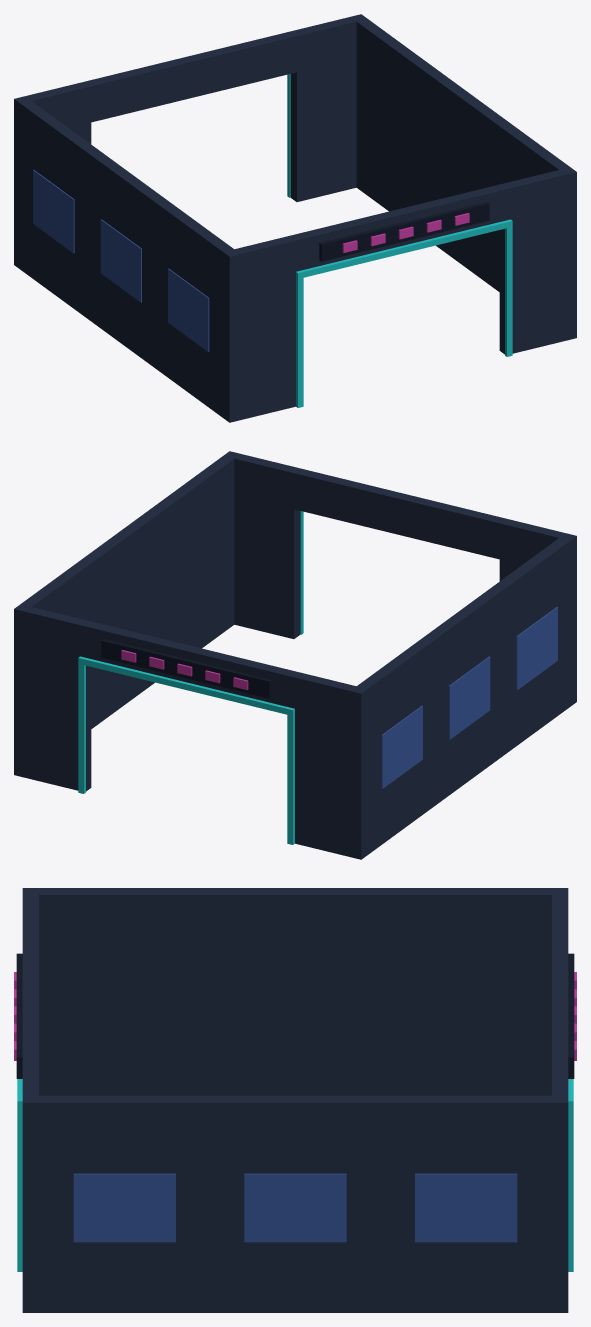
File: Neon_ArcadePassage_Simple.glb
The picture shows the model from 3 angles, top to bottom: view 1: azimuth 30°, elevation 25°; view 2: azimuth 150°, elevation 25°; view 3: azimuth 270°, elevation 25°; orthographic projection. The views are drawn at different scales.
Parts seen in each view (by area): view 1: Neon_ArcadePassage_Simple; view 2: Neon_ArcadePassage_Simple; view 3: Neon_ArcadePassage_Simple.
Part boxes in pixels (x1=…): Neon_ArcadePassage_Simple: x1=14, y1=14, x2=576, y2=422; Neon_ArcadePassage_Simple: x1=14, y1=451, x2=576, y2=859; Neon_ArcadePassage_Simple: x1=14, y1=888, x2=576, y2=1312.
Size of the model in its own units: 7.48 by 3.4 by 8.25.
